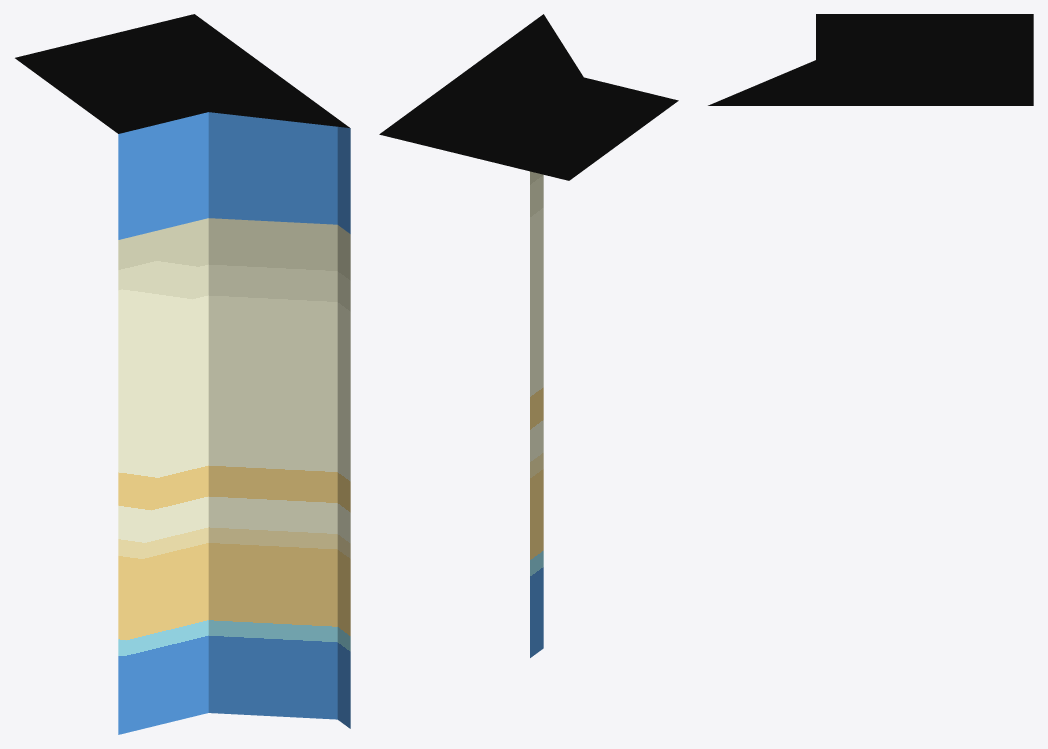
3 views of the same model, side by side, from view 1: azimuth 30°, elevation 25°; view 2: azimuth 150°, elevation 25°; view 3: azimuth 270°, elevation 25° (orthographic). The views are drawn at different scales.
Size of the model in its own units: 1 by 3.19 by 1.5.
Materials: 2 (2 with a texture image).
